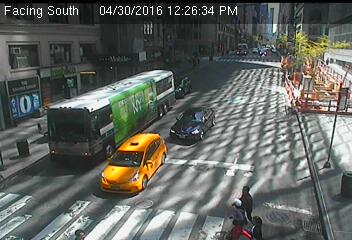neg: (140, 85, 161, 113), (167, 78, 187, 105), (100, 90, 119, 116), (122, 156, 138, 178), (115, 122, 129, 141), (204, 52, 218, 70)
pos: (221, 195, 253, 237), (232, 183, 261, 220), (247, 213, 266, 238)
